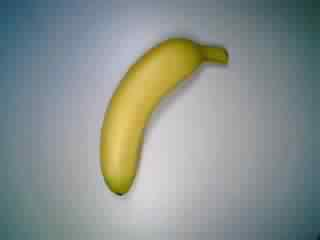banana: (97, 36, 235, 197)
